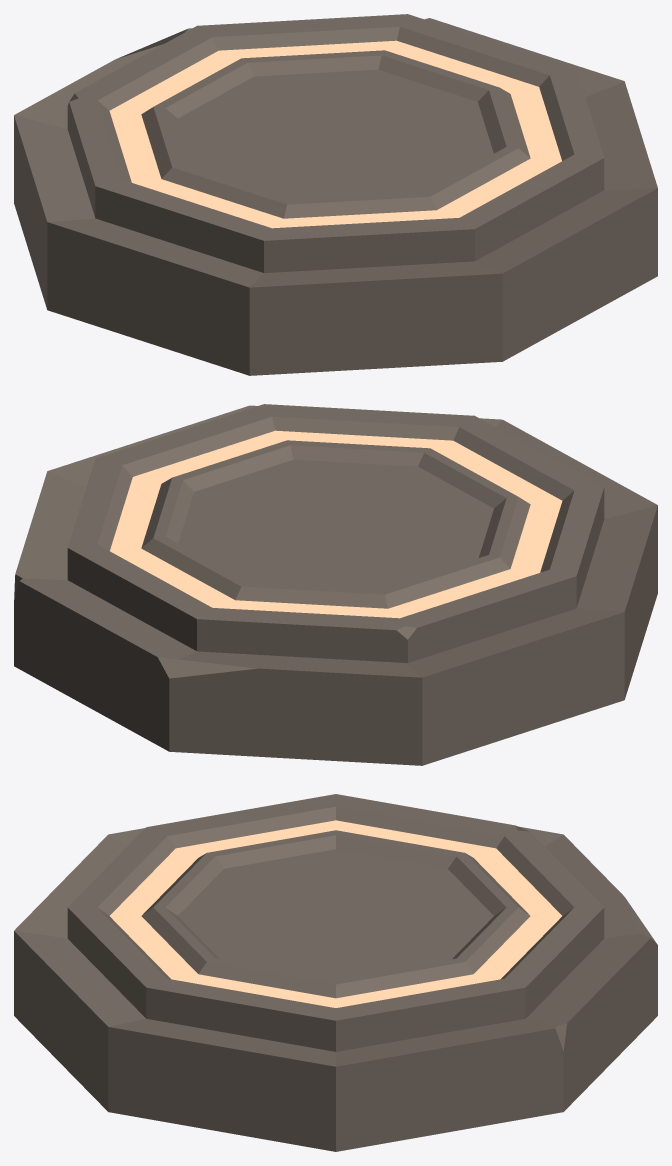
The model's file is red_join_area.gltf.
3 views of the same model, one above another, from view 1: azimuth 30°, elevation 25°; view 2: azimuth 150°, elevation 25°; view 3: azimuth 270°, elevation 25° (orthographic). The views are drawn at different scales.
Parts seen in each view (by area): view 1: Circle.012; view 2: Circle.012; view 3: Circle.012.
Boxes of the visible parts, x1=… form: Circle.012: x1=14, y1=14, x2=657, y2=375; Circle.012: x1=14, y1=404, x2=657, y2=765; Circle.012: x1=14, y1=794, x2=657, y2=1151.
Size of what is drawn, in the model's own units: 6.83 by 1.27 by 6.83.
